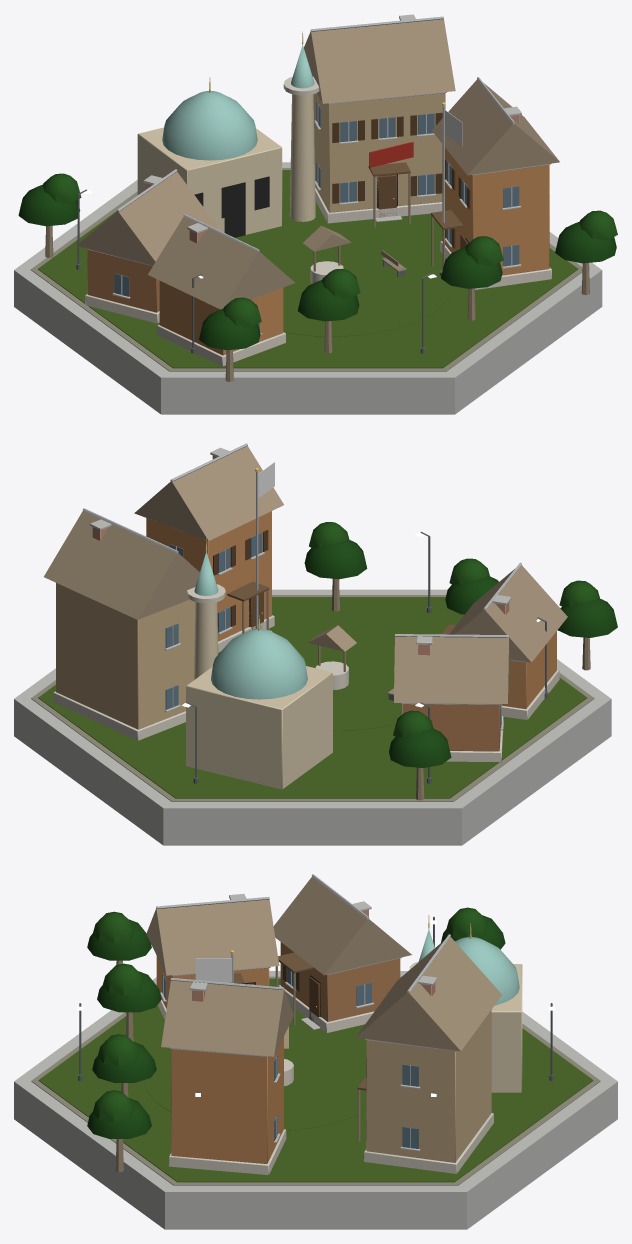
File: villageCenter_africa.glb
3 renders of one model, top to bottom at view 1: azimuth 30°, elevation 25°; view 2: azimuth 150°, elevation 25°; view 3: azimuth 270°, elevation 25°, orthographic. The views are drawn at different scales.
Visible parts, largest first — view 1: wood, plaster, turf, wall_concrete, leaf, copper, stone, pavers, glass, dark, metal, steel_dark (+1 smaller); view 2: plaster, wood, wall_concrete, turf, leaf, copper, stone, pavers, metal, glass, steel_dark; view 3: wood, plaster, wall_concrete, turf, leaf, stone, pavers, copper, glass, metal, banner, steel_dark.
Boxes of the visible parts, x1=… form: wood: x1=45, y1=19, x2=589, y2=381; plaster: x1=87, y1=93, x2=549, y2=355; turf: x1=38, y1=170, x2=578, y2=368; wall_concrete: x1=14, y1=14, x2=602, y2=414; leaf: x1=18, y1=173, x2=617, y2=350; copper: x1=162, y1=45, x2=314, y2=160; stone: x1=85, y1=76, x2=551, y2=366; pavers: x1=30, y1=168, x2=582, y2=371; glass: x1=114, y1=101, x2=519, y2=330; dark: x1=194, y1=174, x2=468, y2=243; metal: x1=116, y1=16, x2=514, y2=251; steel_dark: x1=76, y1=189, x2=442, y2=353; plaster: x1=56, y1=511, x2=556, y2=789; wood: x1=44, y1=446, x2=590, y2=800; wall_concrete: x1=14, y1=447, x2=611, y2=845; turf: x1=38, y1=597, x2=587, y2=798; leaf: x1=304, y1=522, x2=617, y2=767; copper: x1=194, y1=552, x2=307, y2=699; stone: x1=53, y1=584, x2=559, y2=762; pavers: x1=31, y1=595, x2=594, y2=801; metal: x1=82, y1=443, x2=521, y2=637; glass: x1=165, y1=532, x2=501, y2=728; steel_dark: x1=187, y1=531, x2=548, y2=783; wood: x1=115, y1=877, x2=501, y2=1172; plaster: x1=156, y1=942, x2=522, y2=1163; wall_concrete: x1=14, y1=894, x2=617, y2=1229; turf: x1=38, y1=978, x2=593, y2=1182; leaf: x1=87, y1=907, x2=505, y2=1138; stone: x1=157, y1=961, x2=493, y2=1174; pavers: x1=31, y1=976, x2=600, y2=1185; copper: x1=418, y1=929, x2=519, y2=1005; glass: x1=162, y1=968, x2=418, y2=1148; metal: x1=156, y1=874, x2=450, y2=993; banner: x1=195, y1=958, x2=231, y2=982; steel_dark: x1=78, y1=916, x2=553, y2=1092.
Size of the model in its own units: 21.3 by 10.3 by 24.6.
